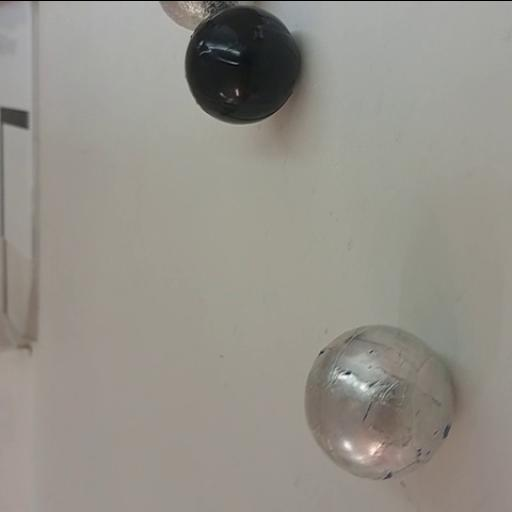alive: (302, 321, 458, 481), (156, 0, 236, 29)
dead: (184, 5, 300, 126)
